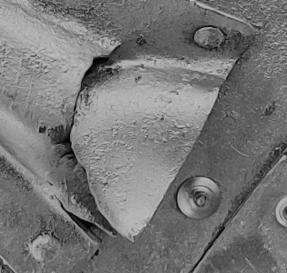crack: (1, 0, 287, 273)
